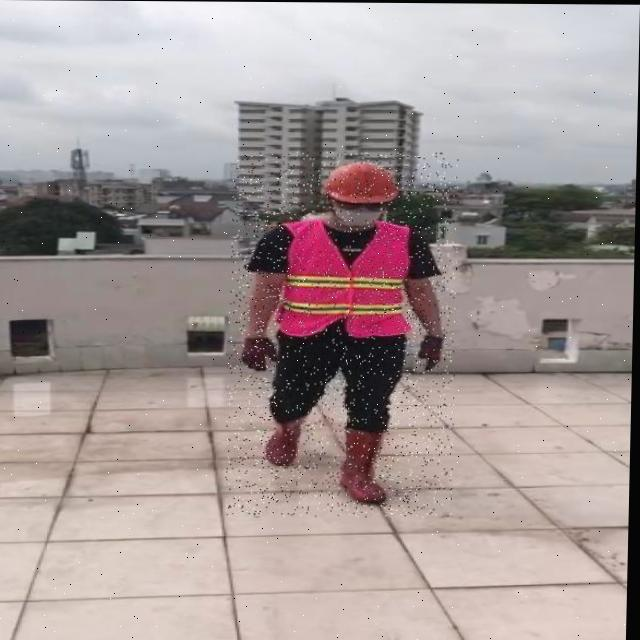Gloves: (243, 335, 277, 370), (419, 333, 444, 371)
Safety-Boot: (340, 424, 389, 504), (265, 419, 303, 466)
Safety-Vest: (277, 216, 414, 337)
